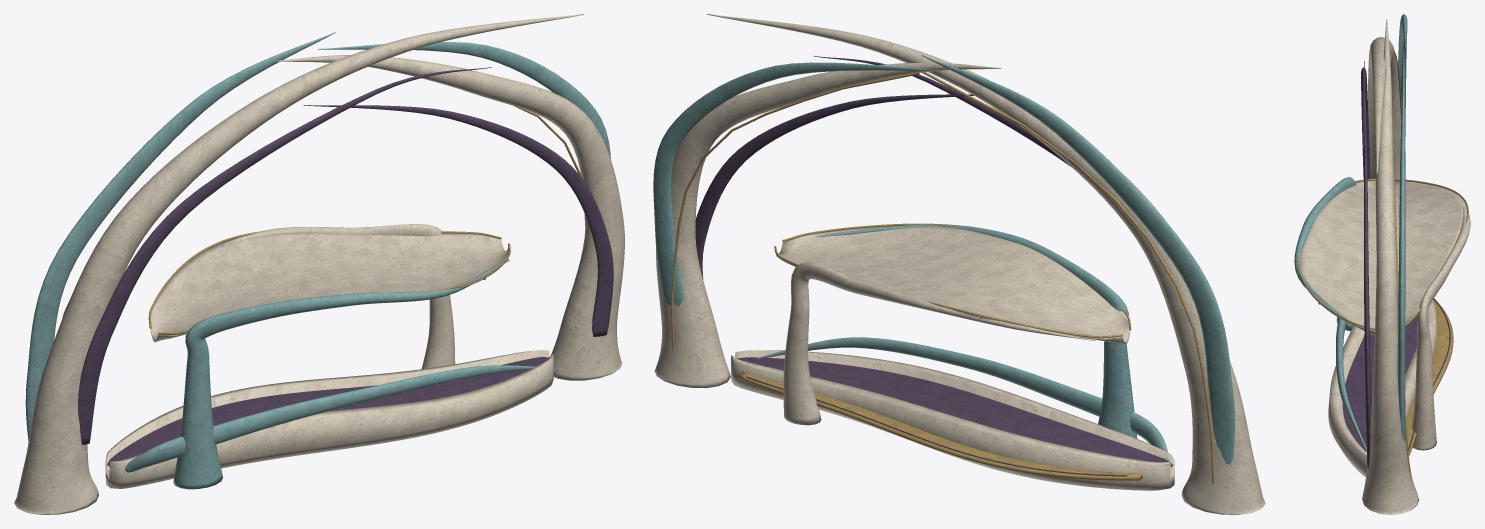
The model's file is commons_grown_kit_v1.glb.
3 renders of one model, left to right at view 1: azimuth 30°, elevation 25°; view 2: azimuth 150°, elevation 25°; view 3: azimuth 270°, elevation 25°, orthographic. The views are drawn at different scales.
Visible parts, largest first — view 1: tendril_arch__structure, rib_shade_canopy__structure, tendril_arch__details, planted_island__structure, planted_island__details, rib_shade_canopy__details; view 2: rib_shade_canopy__structure, tendril_arch__structure, planted_island__structure, tendril_arch__details, planted_island__details, rib_shade_canopy__details; view 3: rib_shade_canopy__structure, tendril_arch__structure, tendril_arch__details, planted_island__structure, planted_island__details, rib_shade_canopy__details.
Part boxes in pixels (left/top/right/bottom): tendril_arch__structure: left=14, top=14, right=624, bottom=514; rib_shade_canopy__structure: left=150, top=224, right=509, bottom=489; tendril_arch__details: left=25, top=32, right=613, bottom=444; planted_island__structure: left=105, top=350, right=553, bottom=488; planted_island__details: left=107, top=357, right=550, bottom=467; rib_shade_canopy__details: left=148, top=231, right=510, bottom=334; rib_shade_canopy__structure: left=776, top=224, right=1137, bottom=438; tendril_arch__structure: left=654, top=14, right=1265, bottom=514; planted_island__structure: left=731, top=337, right=1174, bottom=490; tendril_arch__details: left=653, top=55, right=1235, bottom=484; planted_island__details: left=737, top=357, right=1173, bottom=476; rib_shade_canopy__details: left=774, top=223, right=1131, bottom=338; rib_shade_canopy__structure: left=1294, top=177, right=1470, bottom=450; tendril_arch__structure: left=1362, top=19, right=1419, bottom=514; tendril_arch__details: left=1361, top=14, right=1410, bottom=478; planted_island__structure: left=1328, top=298, right=1453, bottom=477; planted_island__details: left=1342, top=298, right=1450, bottom=451; rib_shade_canopy__details: left=1297, top=178, right=1468, bottom=330.
Size of the model in its own units: 16.46 by 10.01 by 4.6.
Materials: 1 (1 with a texture image).
